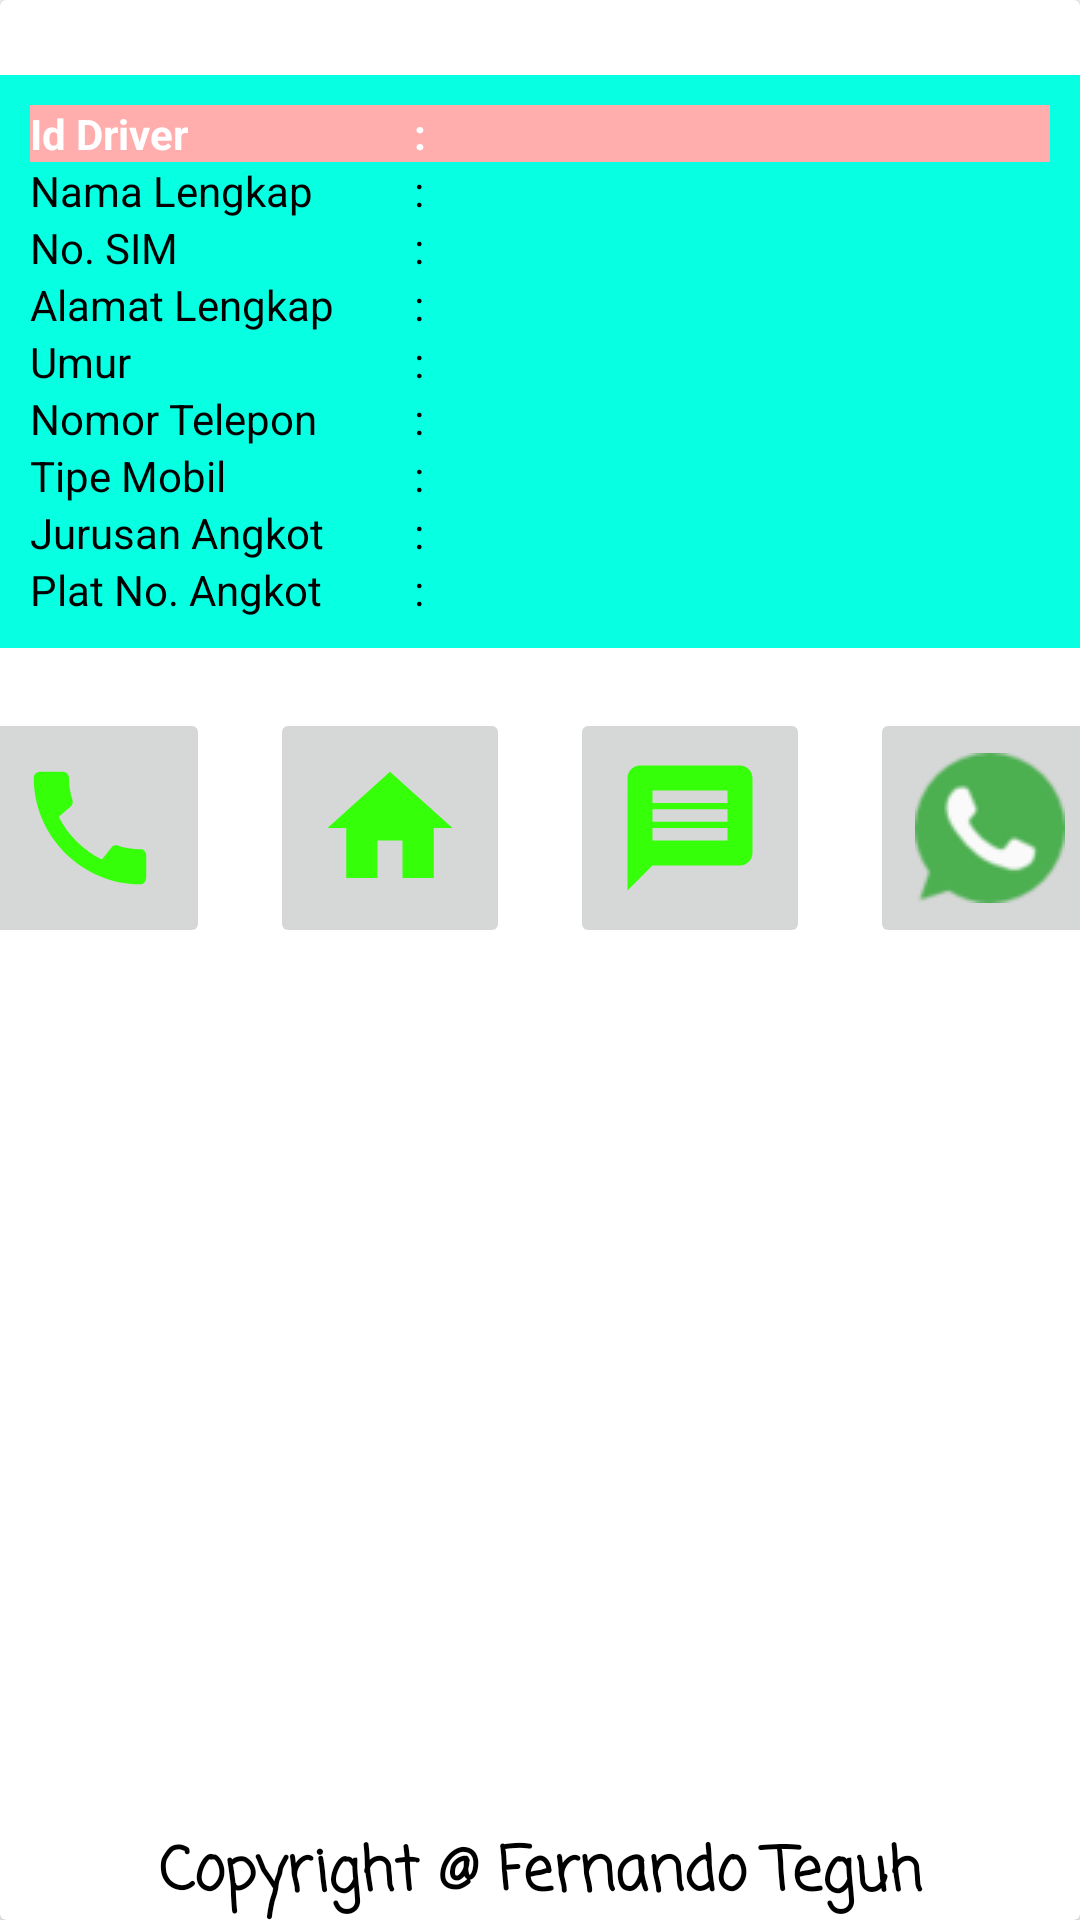

Icon bounding boxes for this 1080w x 1920h phone screenshot, format (x1, y1, x2, y2):
home: (282, 726, 498, 930)
message: (582, 726, 798, 930)
